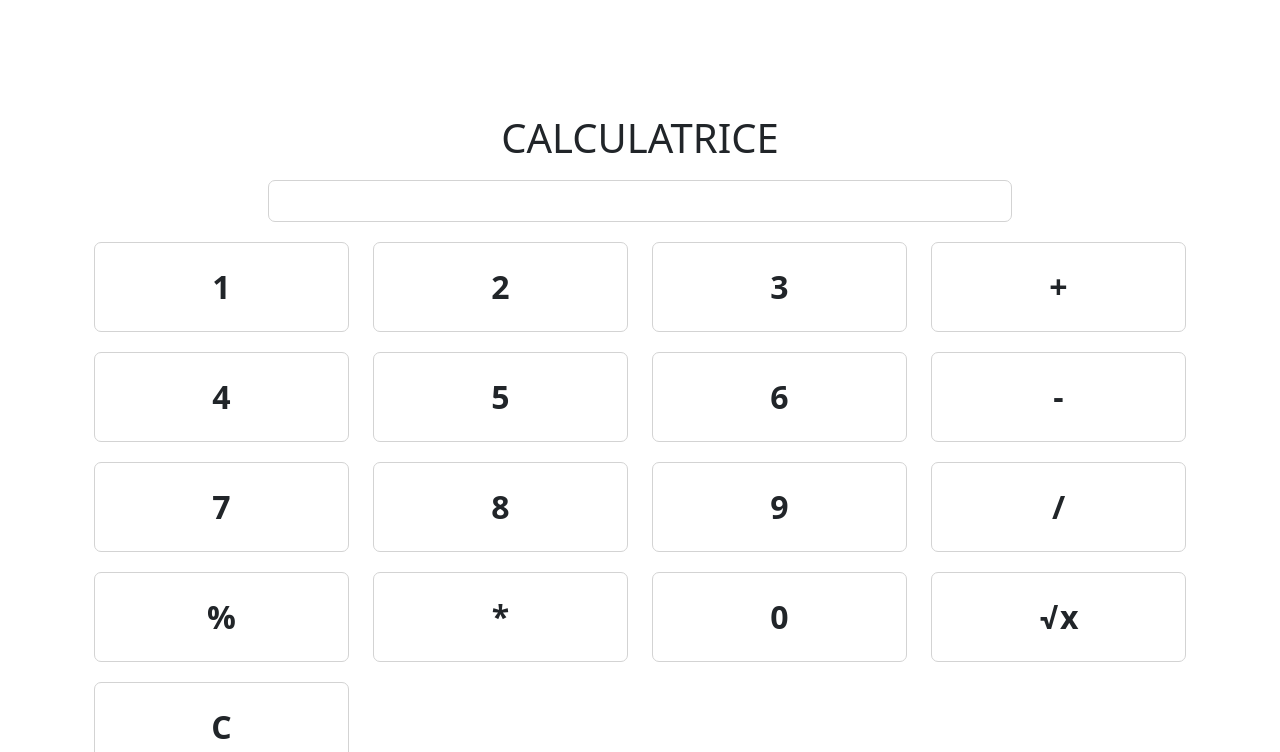
Test: test addition fonctional
Click the text with class "touch" showing "1". click: (222, 287)
box: [94, 242, 349, 332]
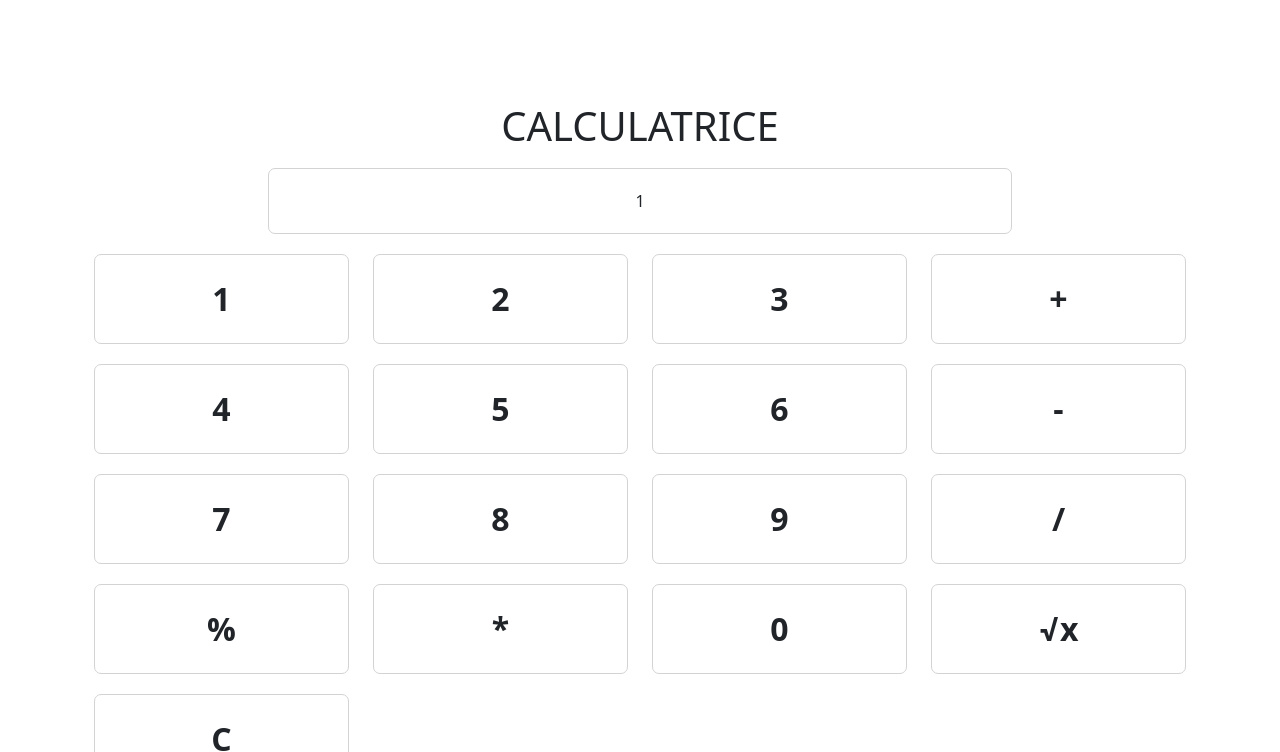
Click the text with class "touch" showing "2". click: (500, 299)
box: [373, 254, 628, 344]
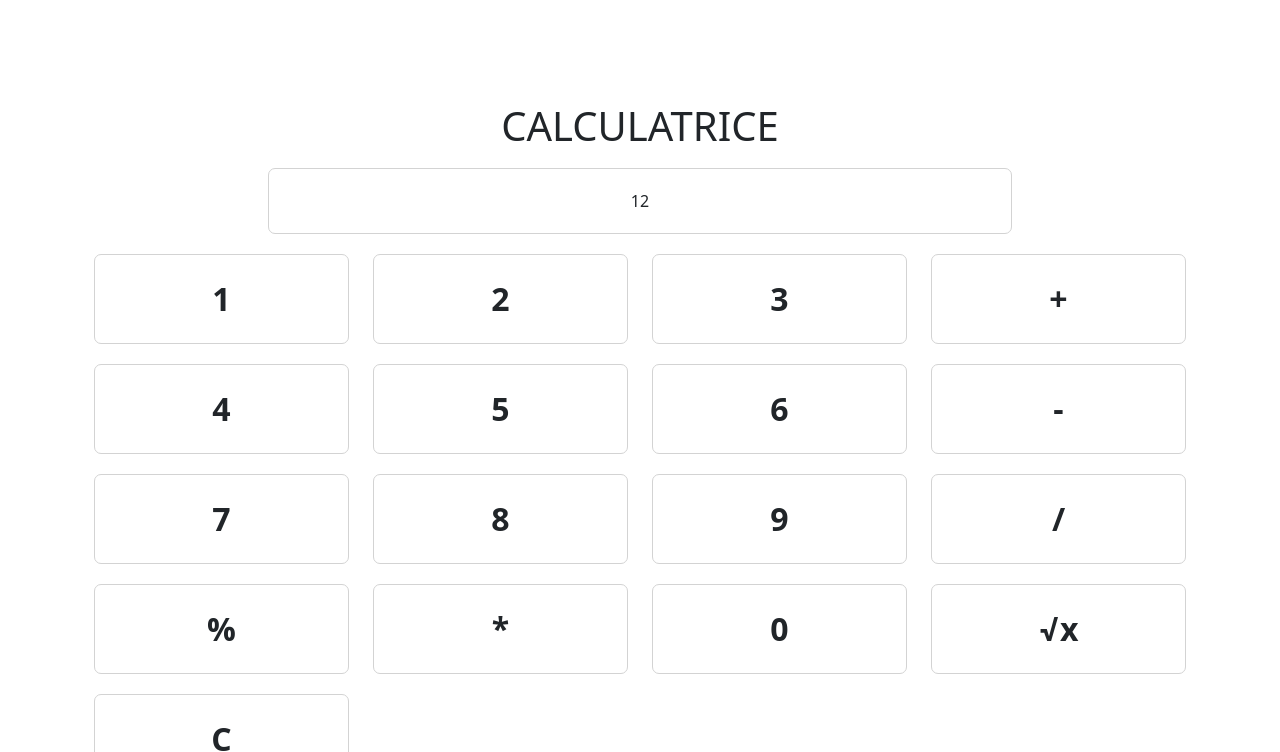
Click the text with class "touch" showing "+". click: (1058, 299)
box: [931, 254, 1186, 344]
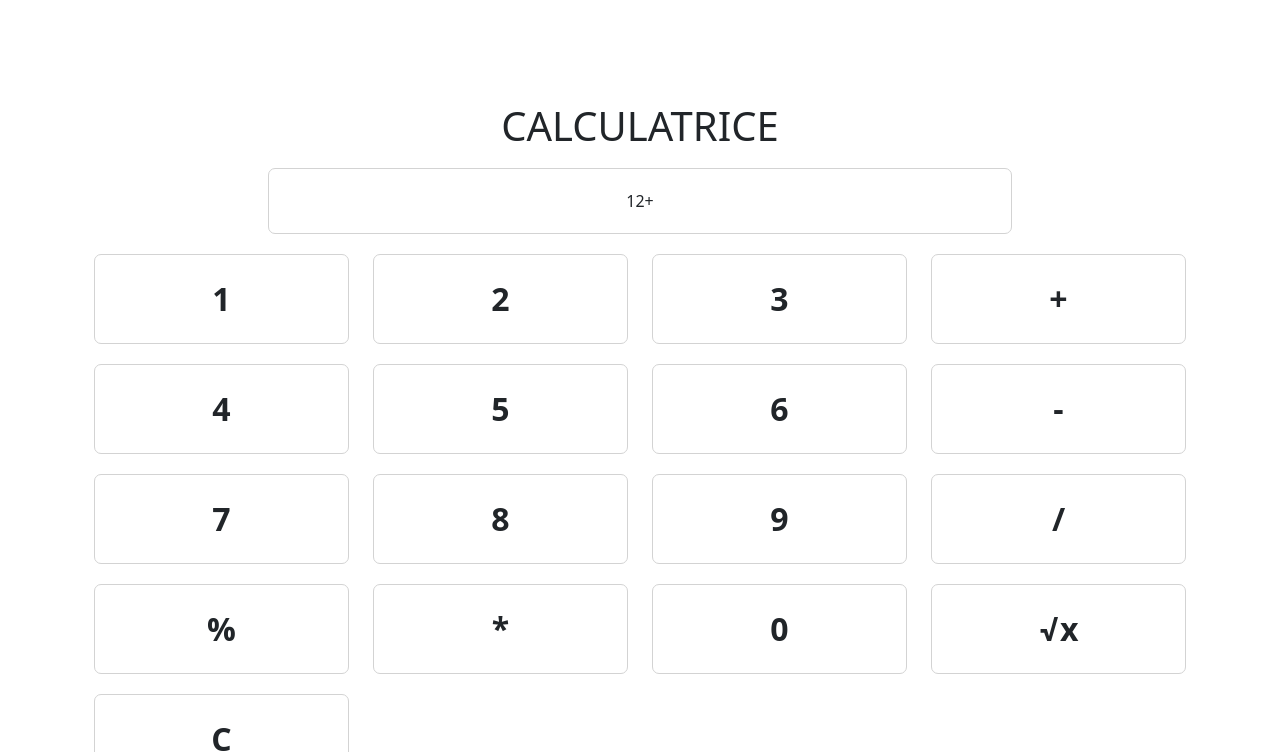
Click the text with class "touch" showing "1". click: (222, 299)
box: [94, 254, 349, 344]
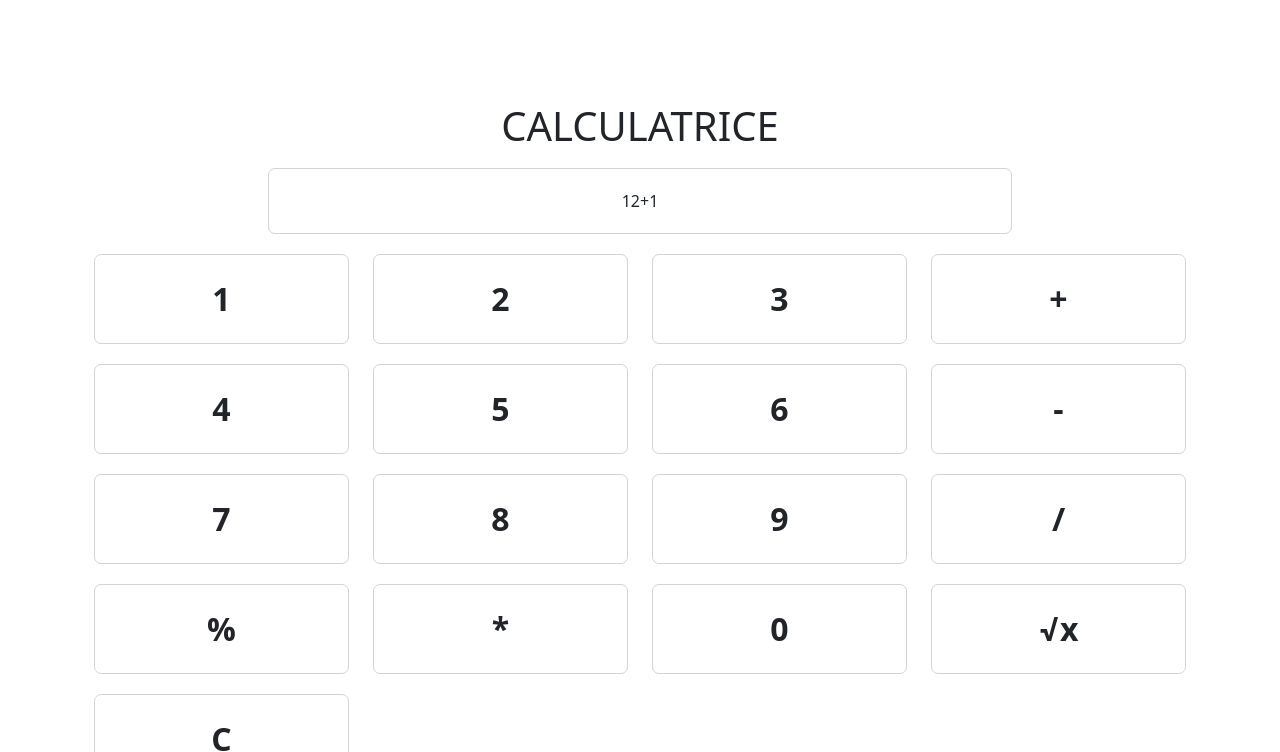
Click the text with class "touch" showing "2". click: (500, 299)
box: [373, 254, 628, 344]
(page scrolled)
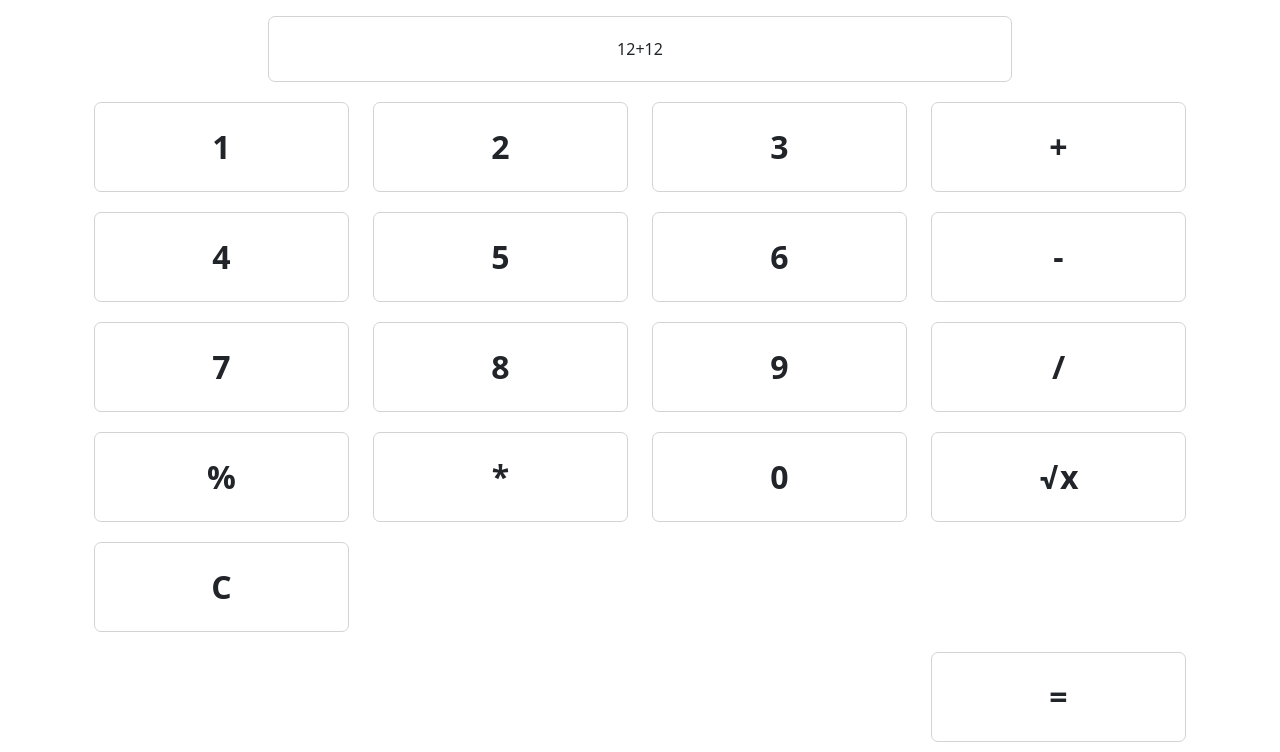
Click the text with class "touch" showing "=". click: (1058, 697)
box: [931, 652, 1186, 742]
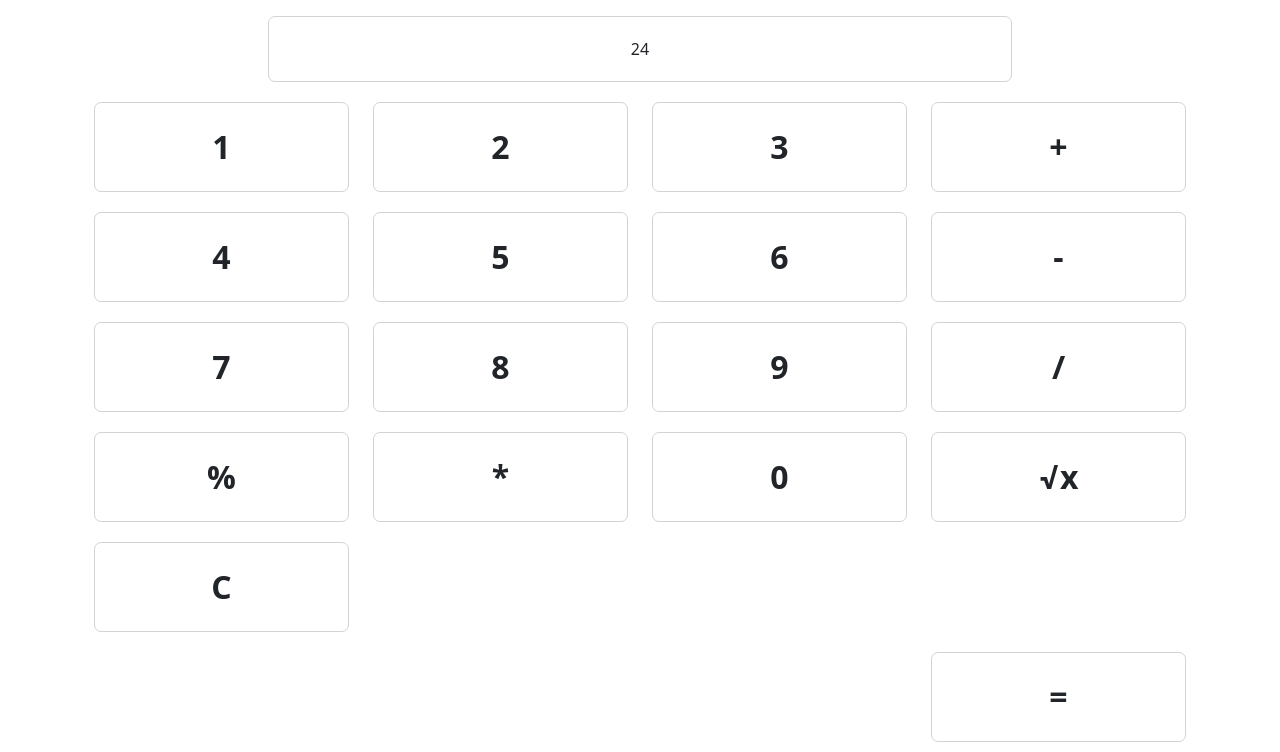
Now the text with class "result" reads "24", box [631, 38, 649, 60]
